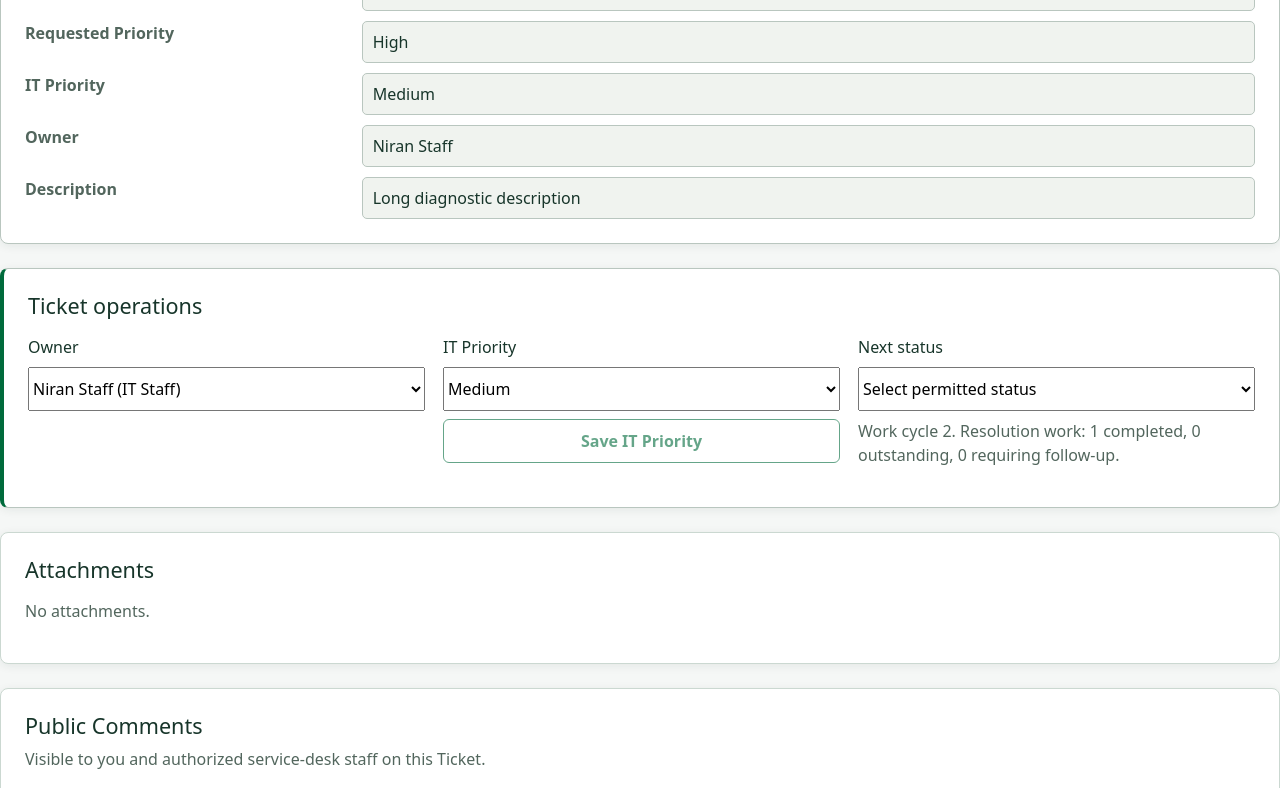
Test: UI-03 backend-authoritative Ticket workflow feedback › preserves an unsaved resolution draft across an unrelated owner refresh
(page scrolled)
Step 1. Select "Resolved" in the dropdown labelled "Next status" → {"x": 1056, "y": 389}, box [858,367,1255,411]
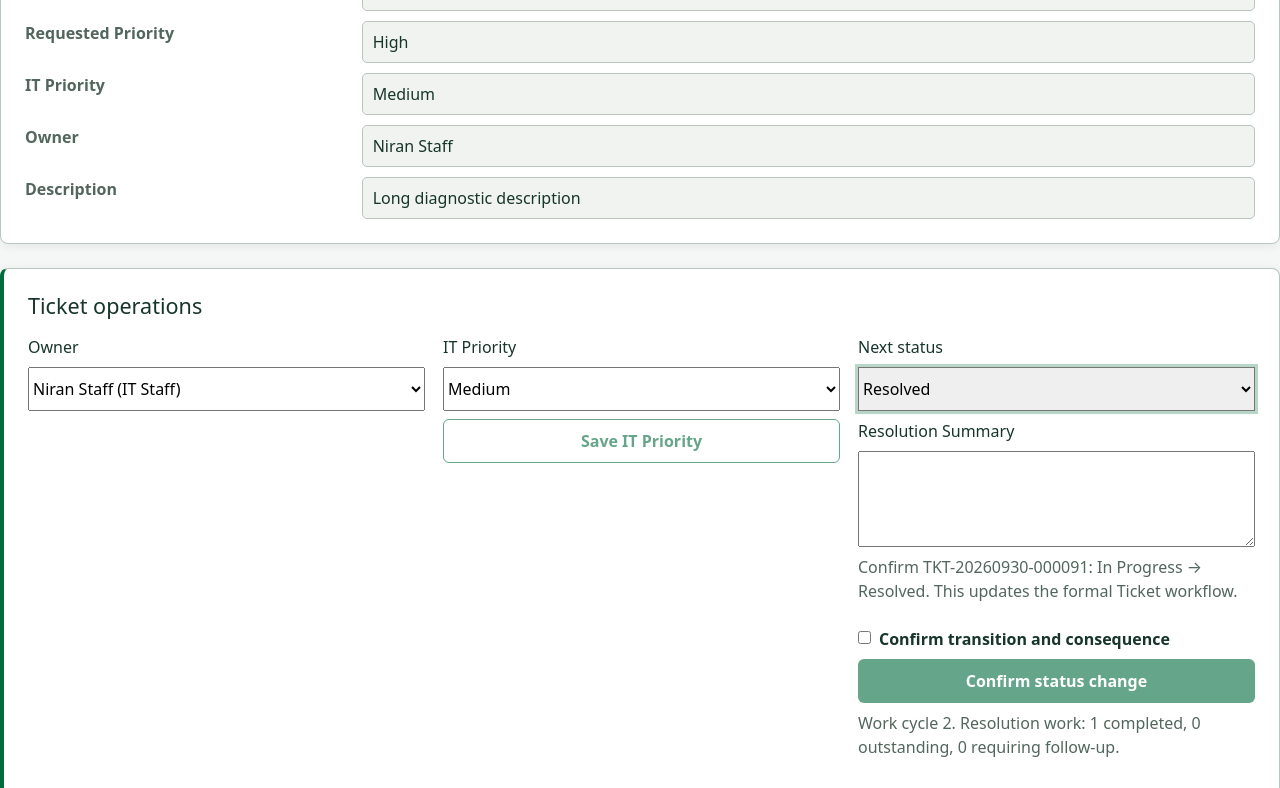
Step 2. Type "Draft summary that must survive owner work" into the text box labelled "Resolution Summary" → {"x": 1056, "y": 499}, box [858,451,1255,547]
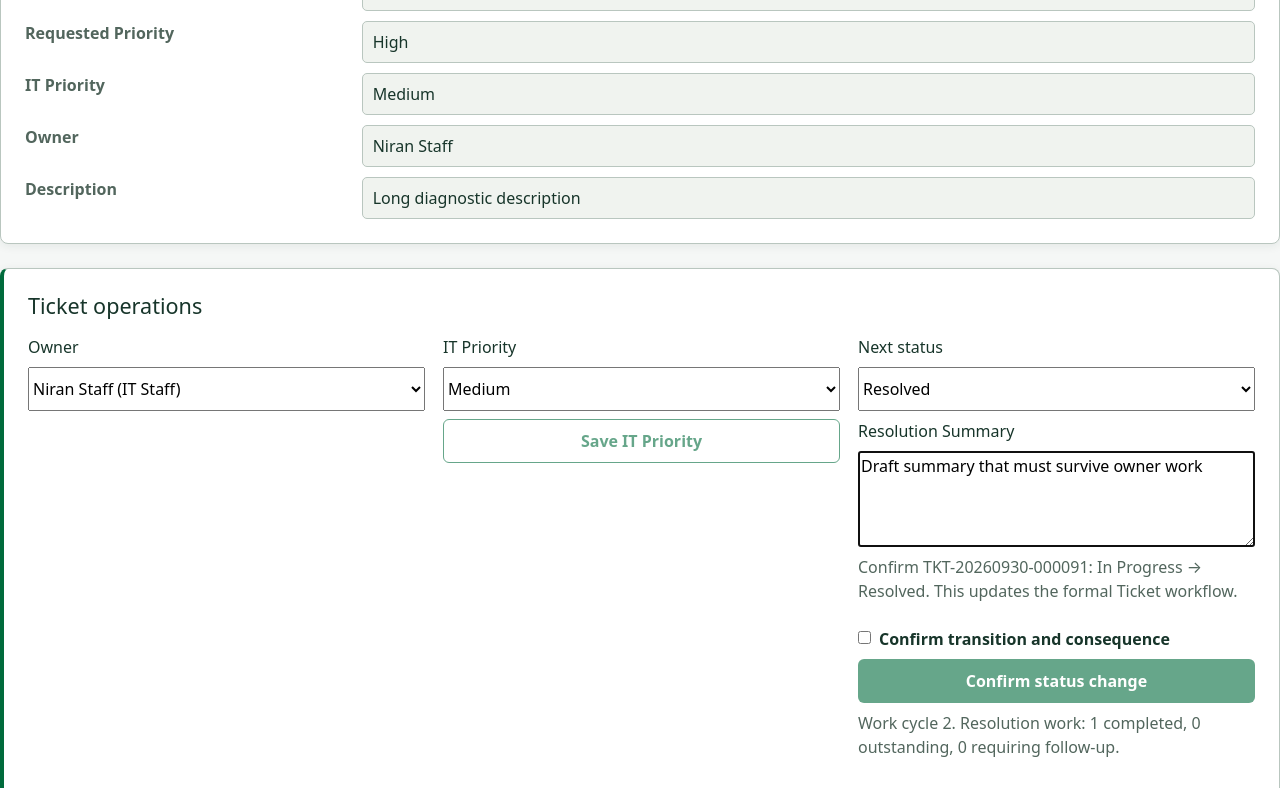
Step 3. Select "Ada Admin (Administrator)" in the dropdown labelled "Owner" → {"x": 226, "y": 389}, box [28,367,425,411]
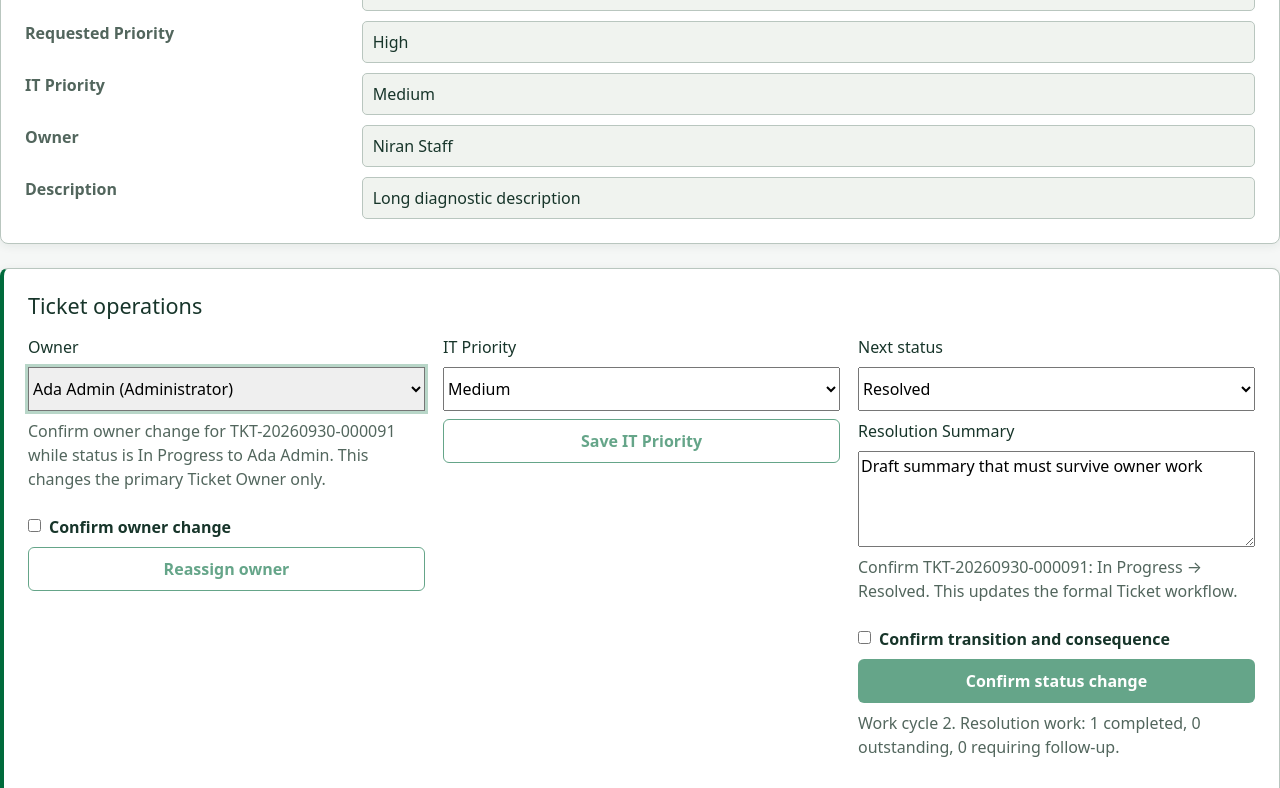
Step 4. Click the checkbox labelled "Confirm owner change" → {"x": 34, "y": 525}, box [28,519,41,532]
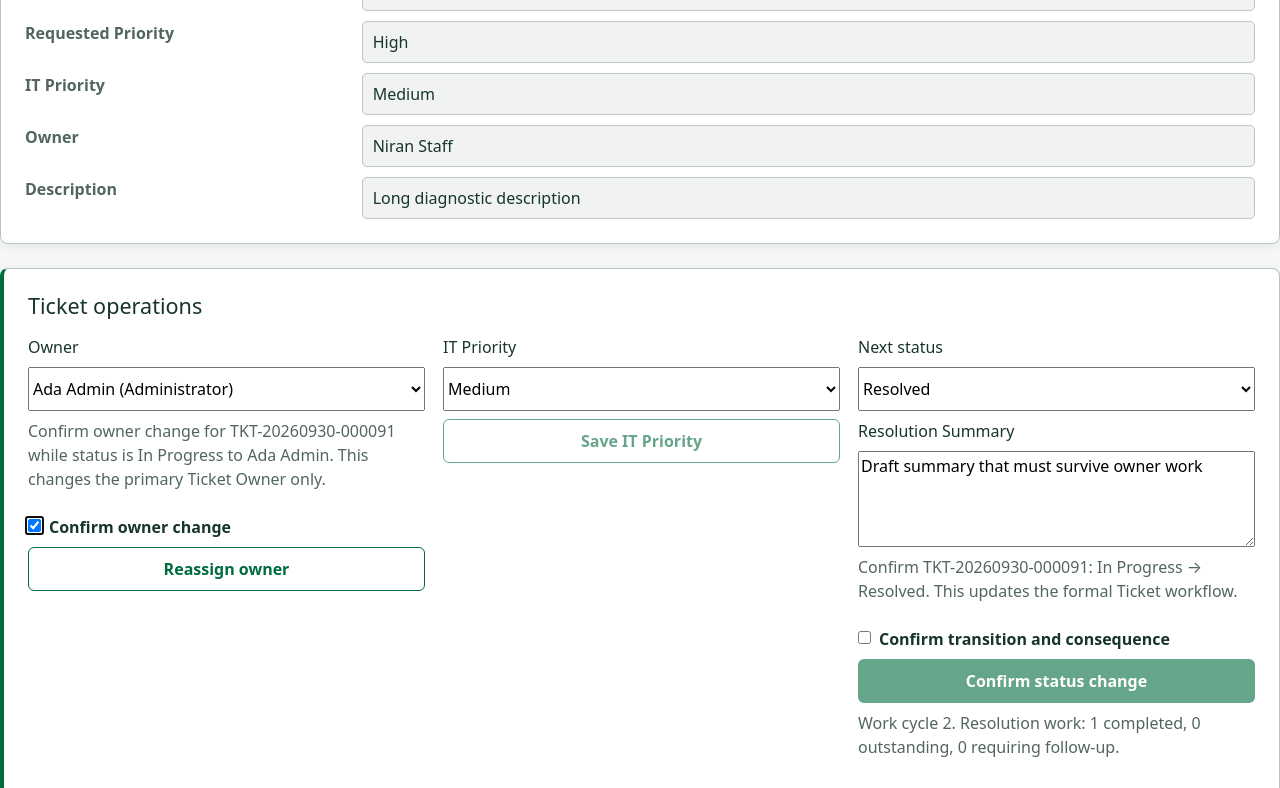
Step 5. Click the button "Reassign owner" → {"x": 226, "y": 569}, box [28,547,425,591]
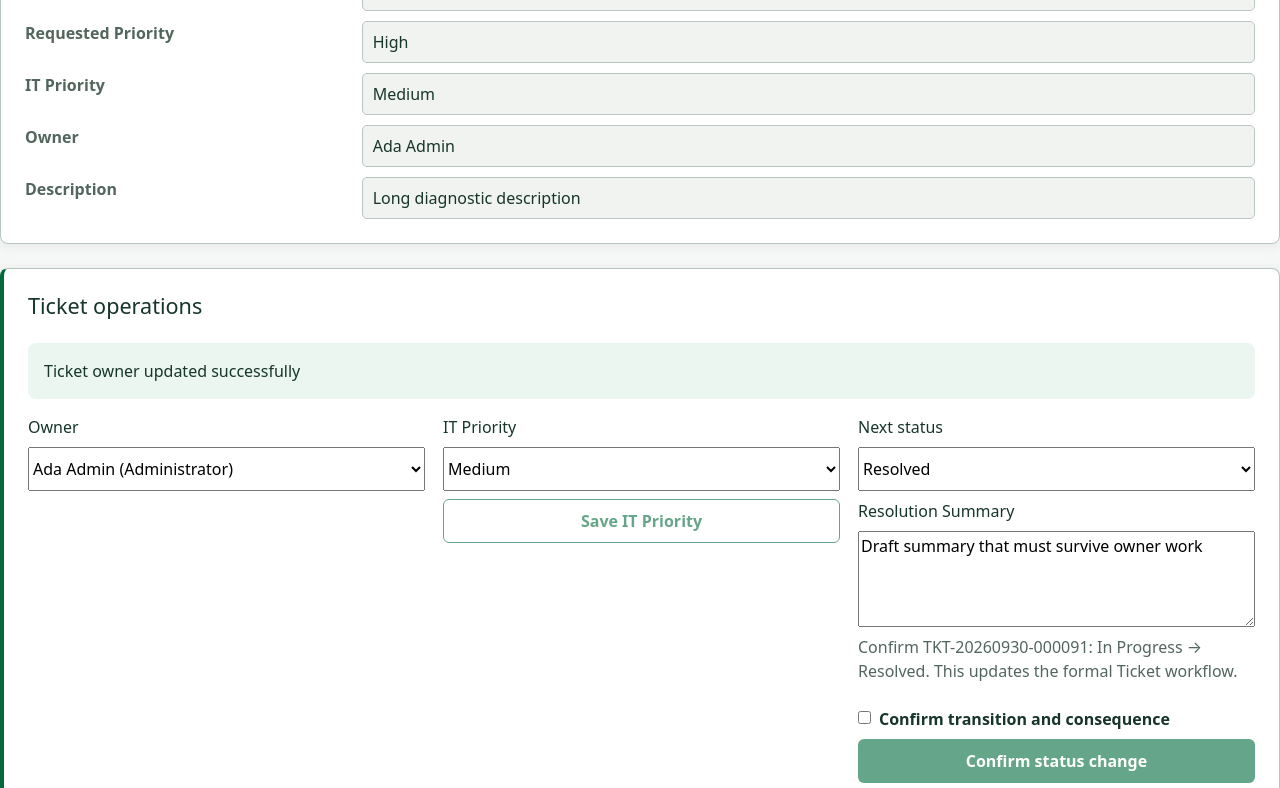
Result: the text "Ada Admin" is shown at [362,125,1255,167]
